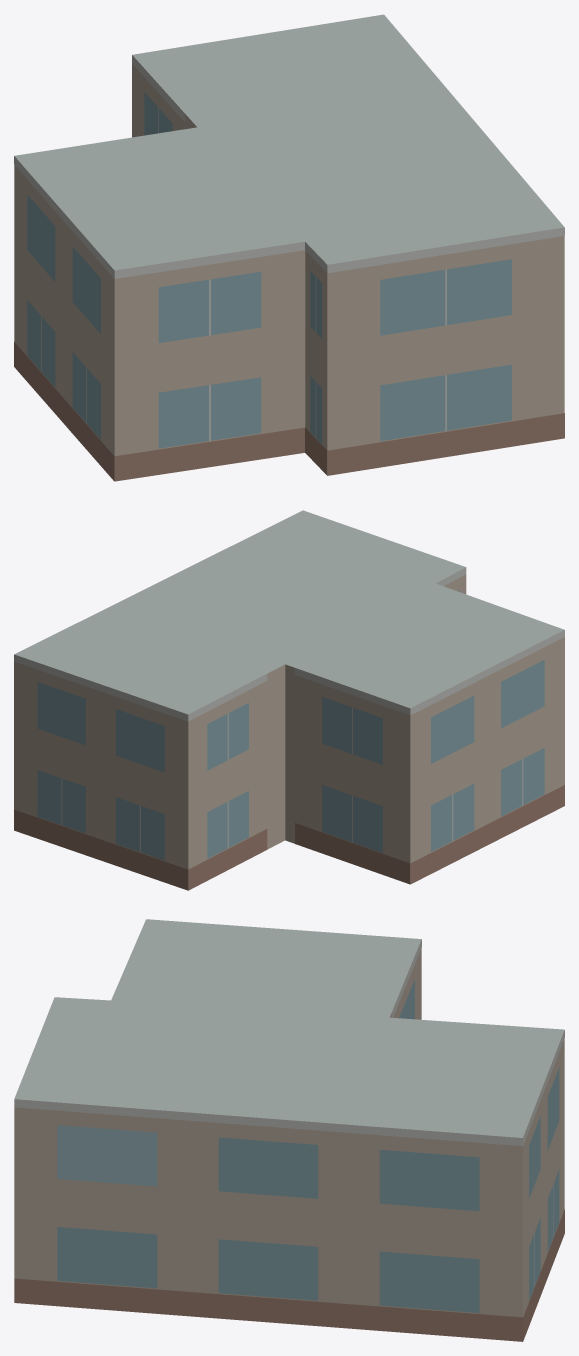
Rendered from survey-upis-32868847.glb.
3 renders of one model, top to bottom at view 1: azimuth 30°, elevation 25°; view 2: azimuth 150°, elevation 25°; view 3: azimuth 270°, elevation 25°, orthographic. The views are drawn at different scales.
Visible parts, largest first — view 1: survey-upis-32868847.tmp; view 2: survey-upis-32868847.tmp; view 3: survey-upis-32868847.tmp.
Boxes of the visible parts, <box> form: survey-upis-32868847.tmp: <box>14,14,564,481</box>; survey-upis-32868847.tmp: <box>14,510,564,890</box>; survey-upis-32868847.tmp: <box>14,919,564,1341</box>.
Bounding box in the file's own units: 14.07 × 6.1 × 14.95.
